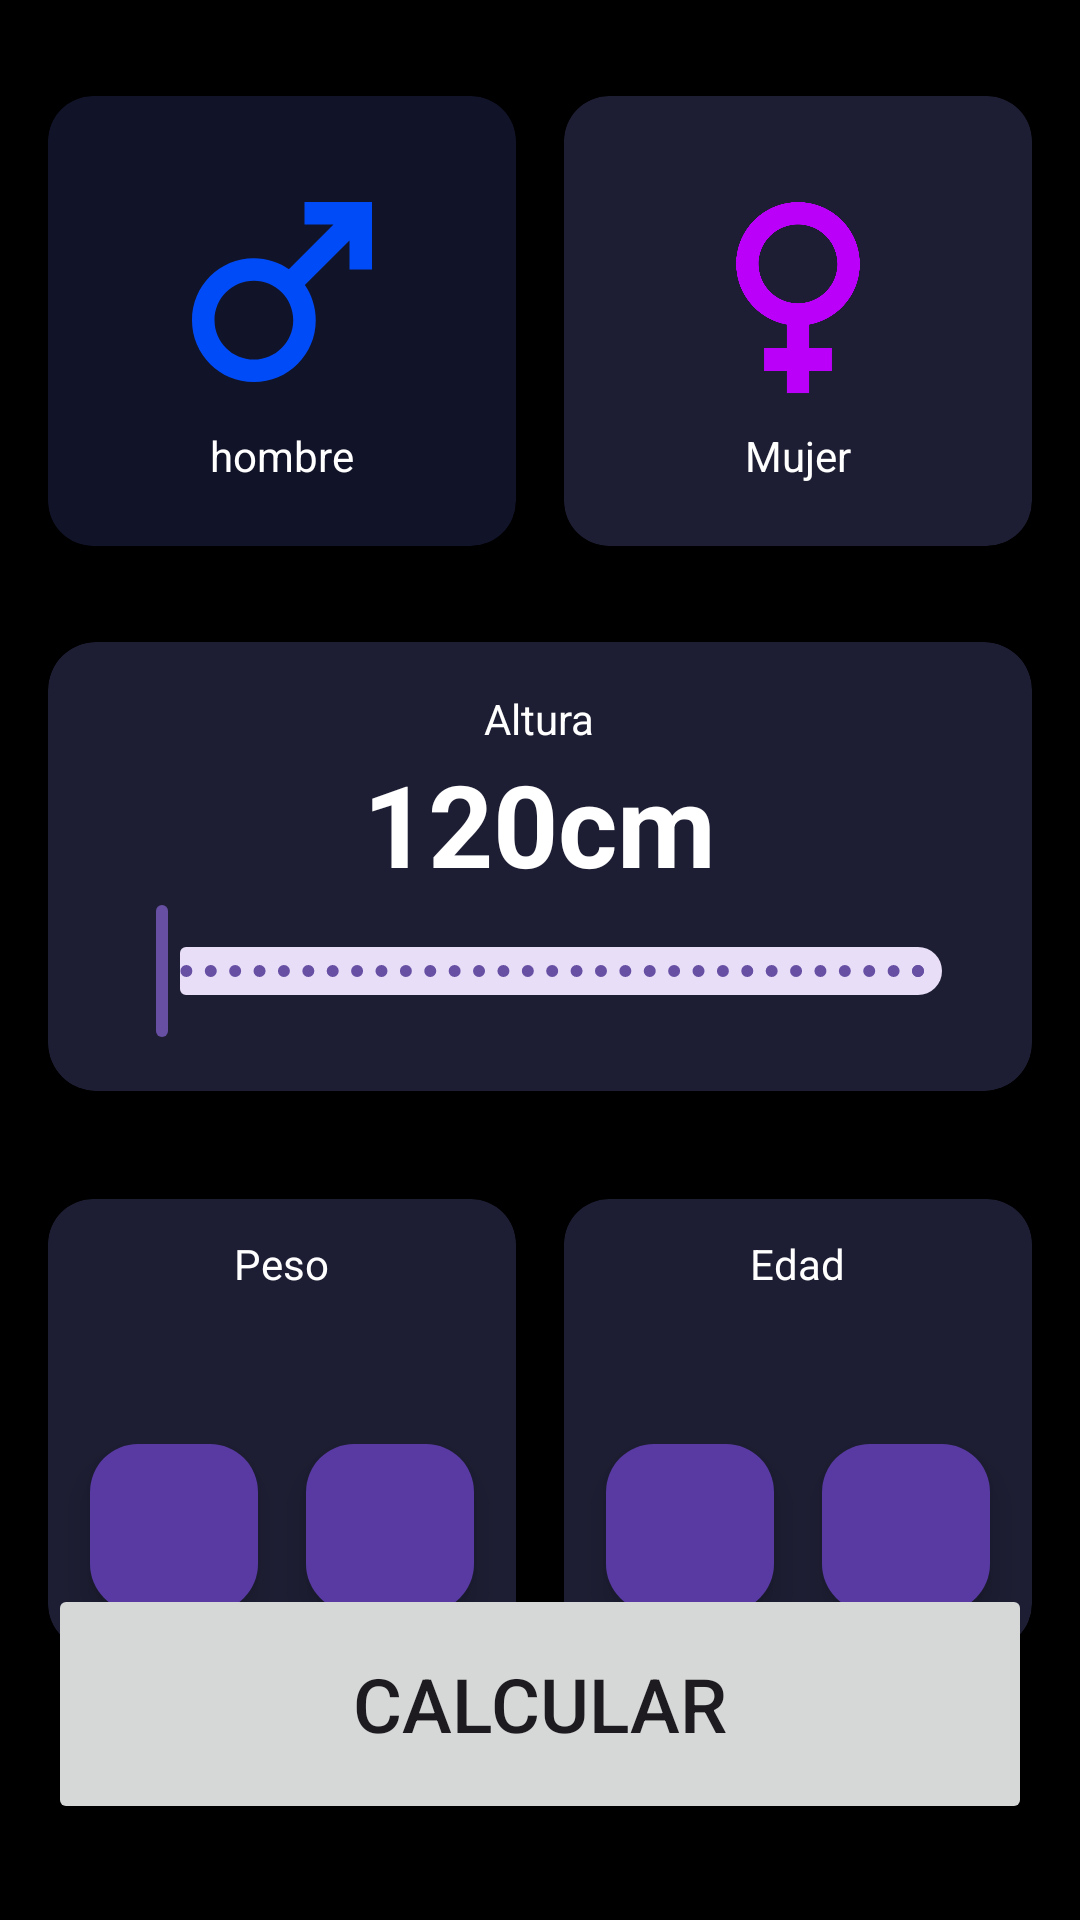

Icons on this 1080x1920 Android screen, each with the point to tap as (x=x, y=y):
male: (x=282, y=292)
